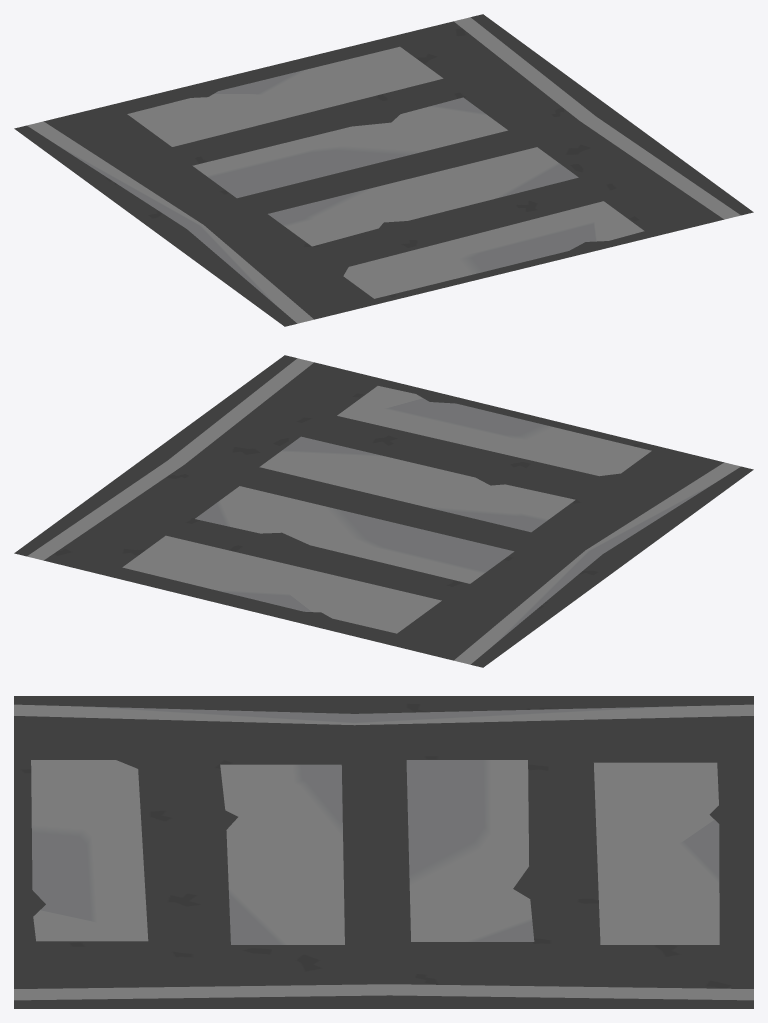
The model's file is SM_Env_Road_Crossing_01.glb.
3 views of the same model, one above another, from view 1: azimuth 30°, elevation 25°; view 2: azimuth 150°, elevation 25°; view 3: azimuth 270°, elevation 25° (orthographic). The views are drawn at different scales.
Parts seen in each view (by area): view 1: SM_Env_Road_Crossing_01; view 2: SM_Env_Road_Crossing_01; view 3: SM_Env_Road_Crossing_01.
Part boxes in pixels (left/top/right/bottom): SM_Env_Road_Crossing_01: left=14, top=14, right=753, bottom=326; SM_Env_Road_Crossing_01: left=14, top=355, right=753, bottom=667; SM_Env_Road_Crossing_01: left=14, top=696, right=753, bottom=1008.
Size of the model in its own units: 5 by 3.65e-07 by 5.
Materials: 1 (1 with a texture image).
